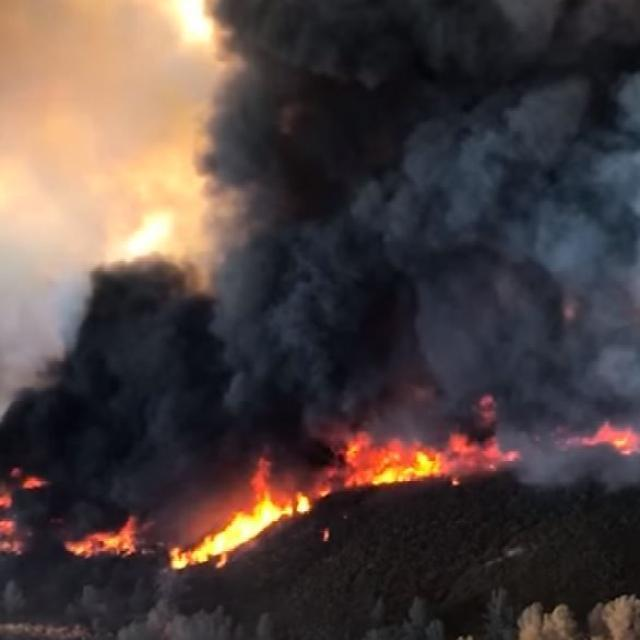Fire: (162, 477, 309, 580), (337, 432, 484, 502), (58, 514, 154, 566), (574, 419, 640, 460), (0, 492, 21, 566), (12, 464, 46, 494)
Smoke: (28, 6, 640, 536)
